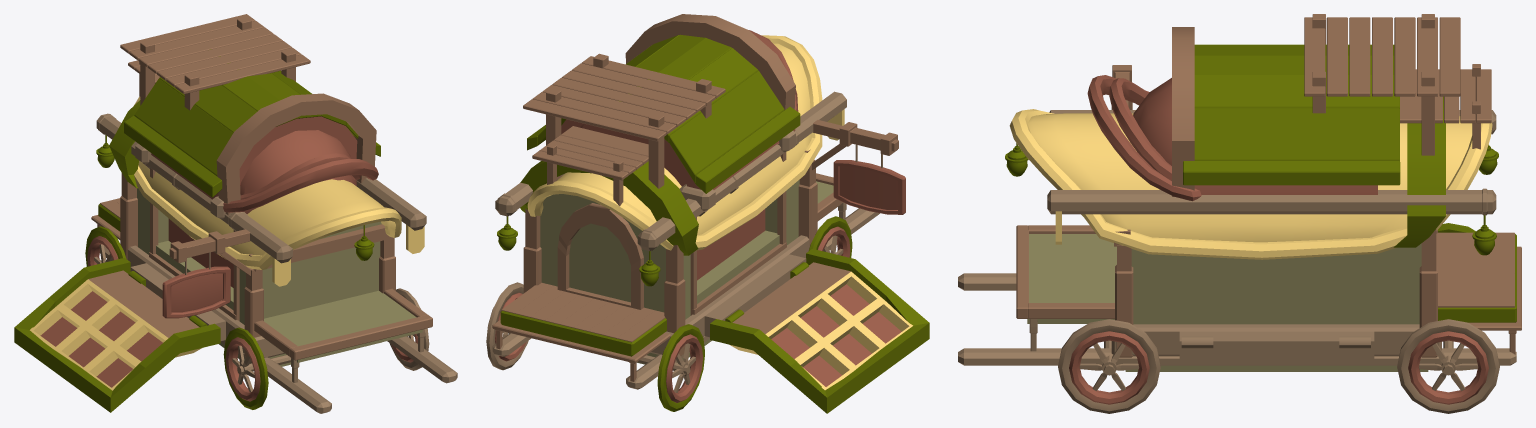
The model's file is C_TraderCarruage.fbx.
3 views of the same model, side by side, from view 1: azimuth 30°, elevation 25°; view 2: azimuth 150°, elevation 25°; view 3: azimuth 270°, elevation 25° (orthographic). The views are drawn at different scales.
Parts seen in each view (by area): view 1: Trader; view 2: Trader; view 3: Trader.
Boxes of the visible parts, box(x1,y1,x2,y2) form: Trader: box(14, 14, 457, 413); Trader: box(486, 14, 929, 413); Trader: box(958, 14, 1521, 413).
Size of the model in its own units: 1910 by 1220 by 1373.
